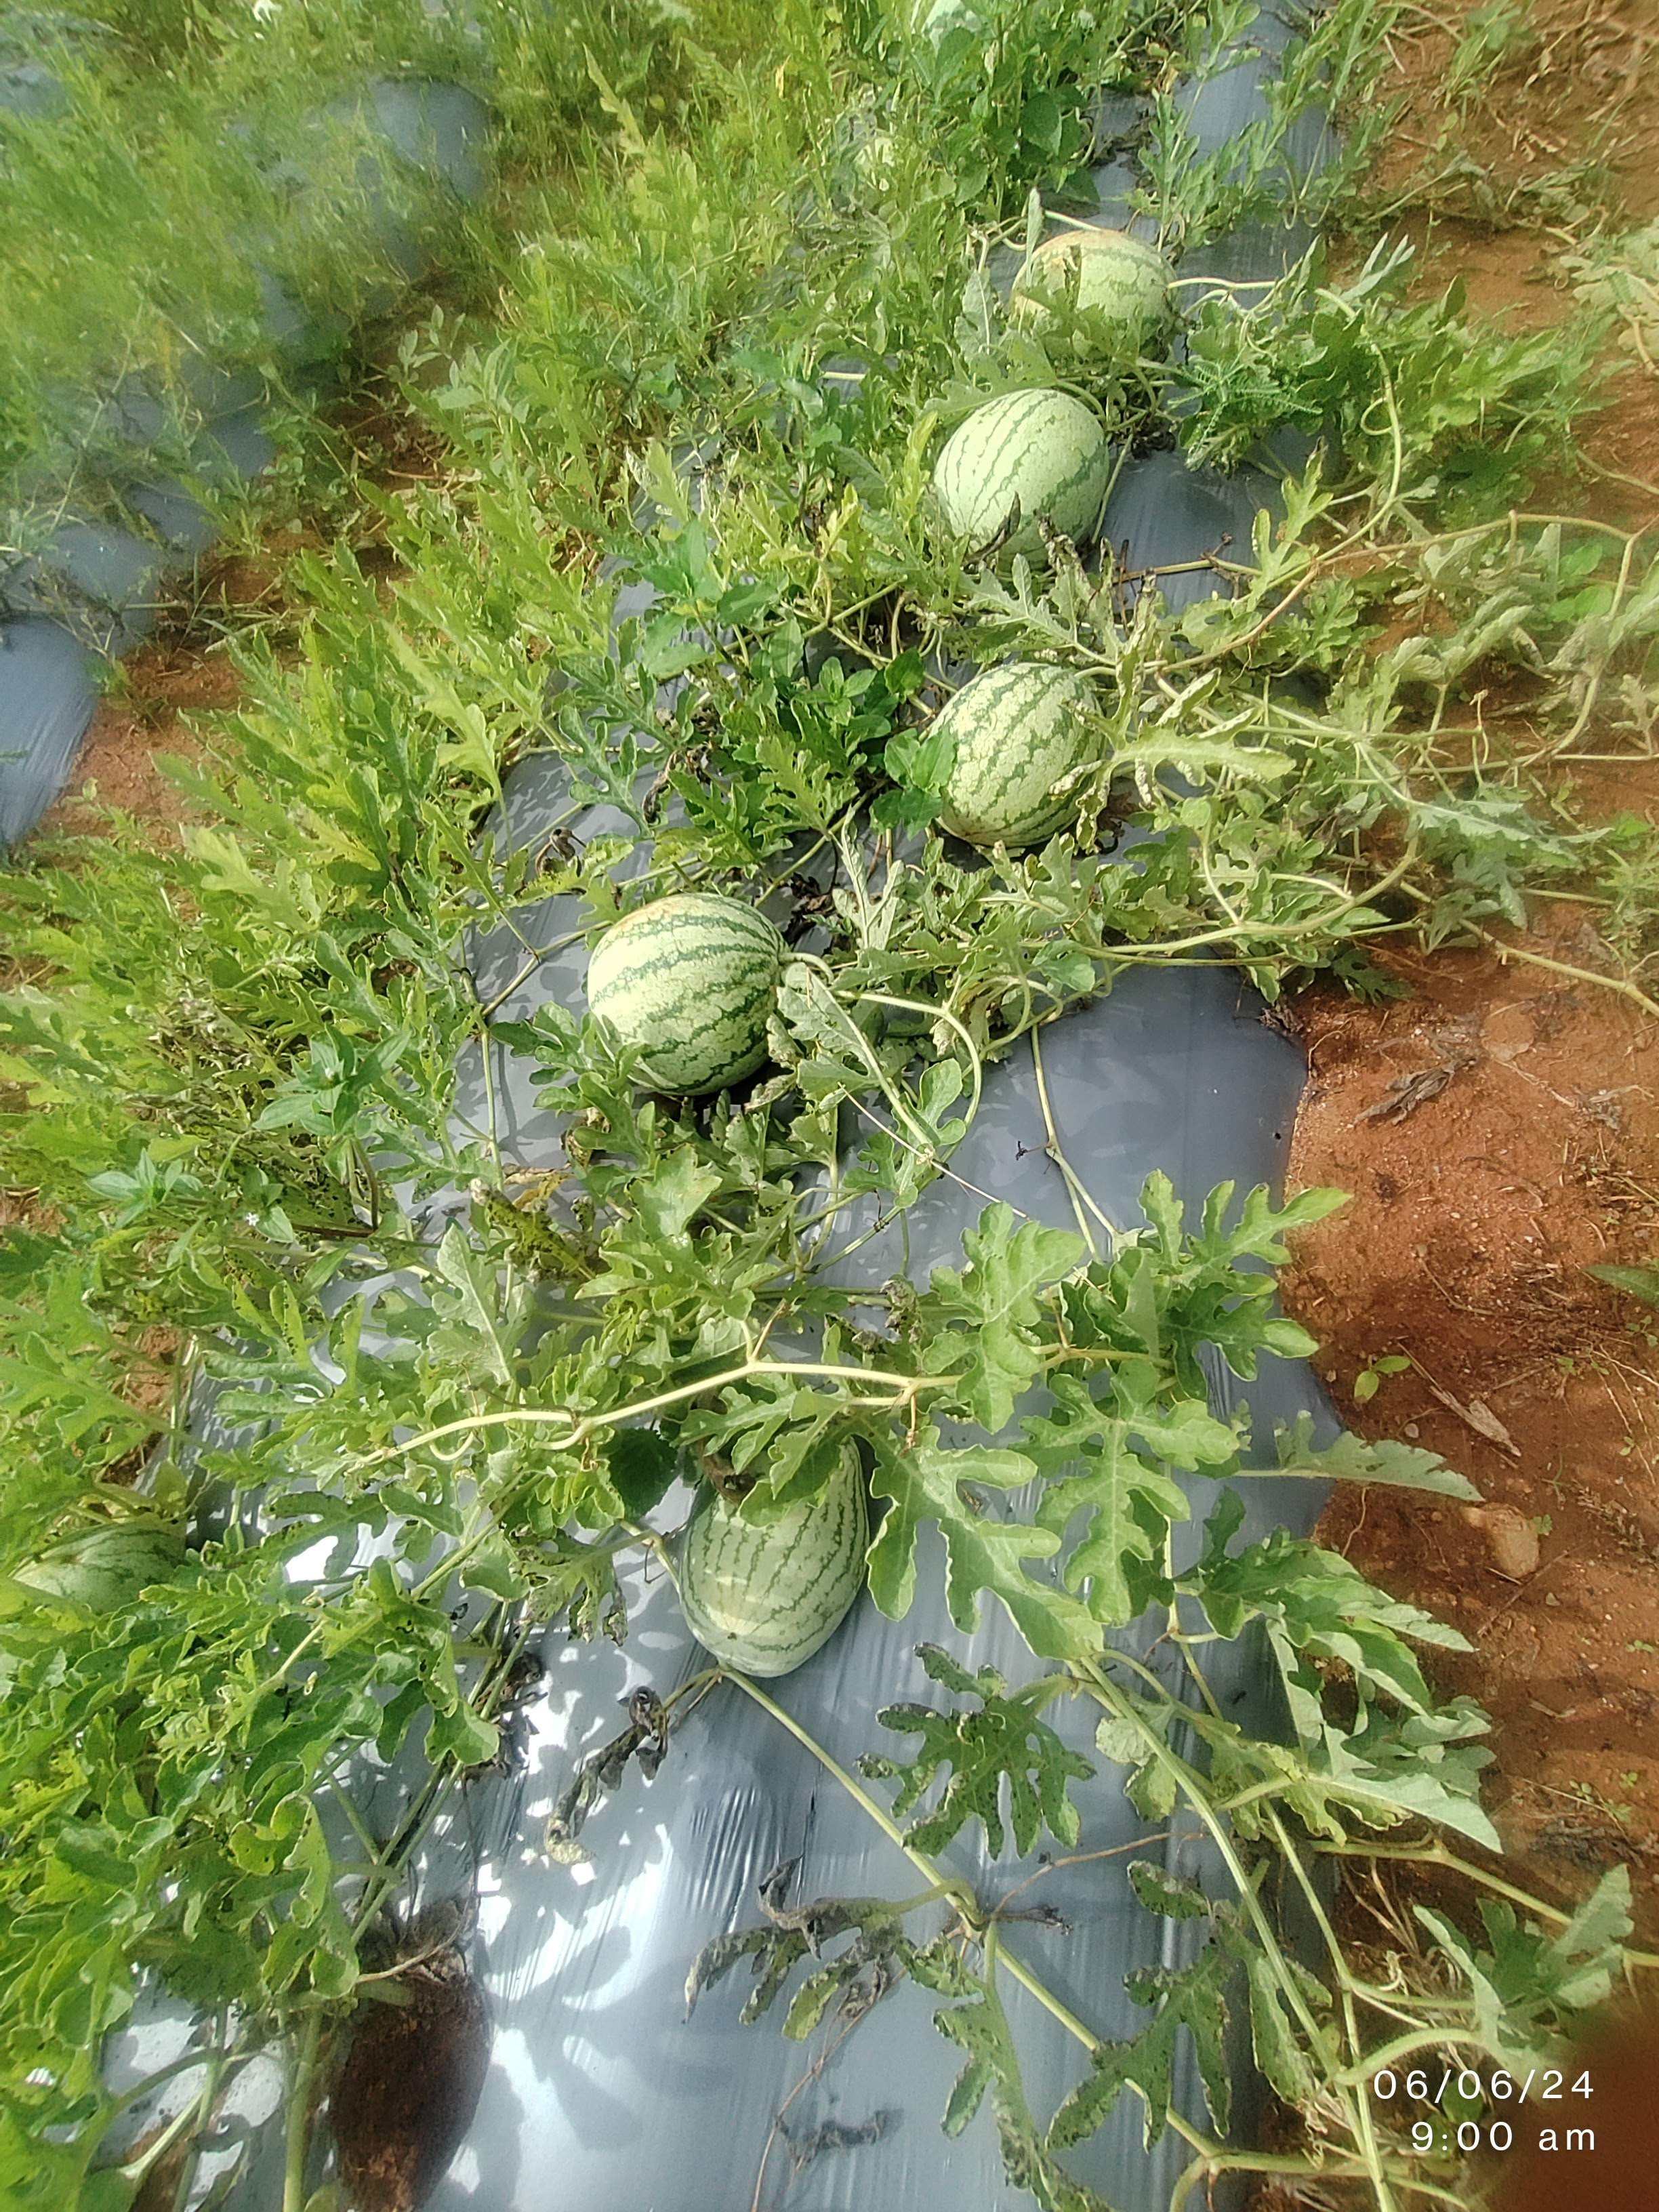good-to-harvest: (673, 1327, 951, 1757), (857, 624, 1180, 860), (910, 368, 1169, 557)
not-good-to-harvest: (465, 812, 903, 1082), (958, 174, 1260, 350)
